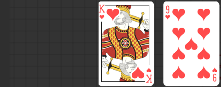KH: (145, 67, 153, 85)
